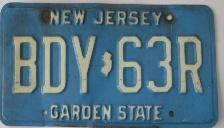3: (146, 34, 176, 95)
6: (117, 33, 144, 96)
B: (11, 33, 42, 95)
D: (41, 33, 70, 95)
R: (177, 34, 207, 95)
Y: (70, 32, 99, 96)
